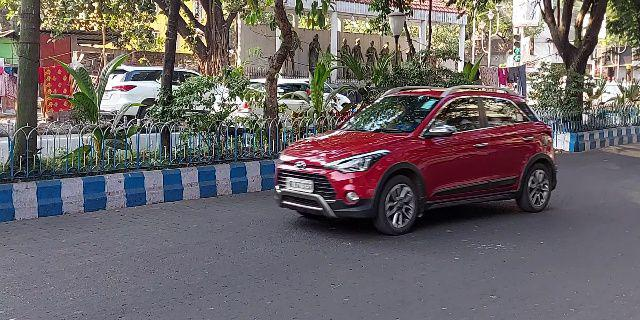Car: (273, 83, 558, 236)
